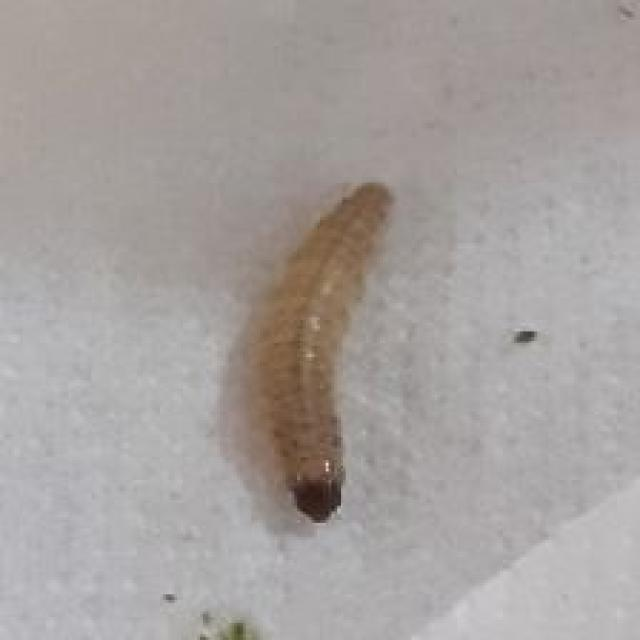white mucus: (211, 162, 463, 537)
